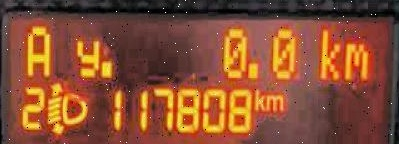-: (245, 56, 260, 81), (99, 55, 113, 79)
0: (269, 24, 299, 80), (222, 26, 245, 78), (201, 87, 224, 133)
1: (135, 84, 148, 131), (110, 85, 120, 133)
2: (22, 84, 42, 130)
7: (153, 84, 173, 131)
8: (174, 84, 198, 134), (229, 85, 250, 134)
X: (23, 23, 50, 78), (316, 25, 341, 82), (344, 39, 369, 79), (75, 39, 98, 78), (265, 91, 284, 111), (254, 85, 264, 110)
